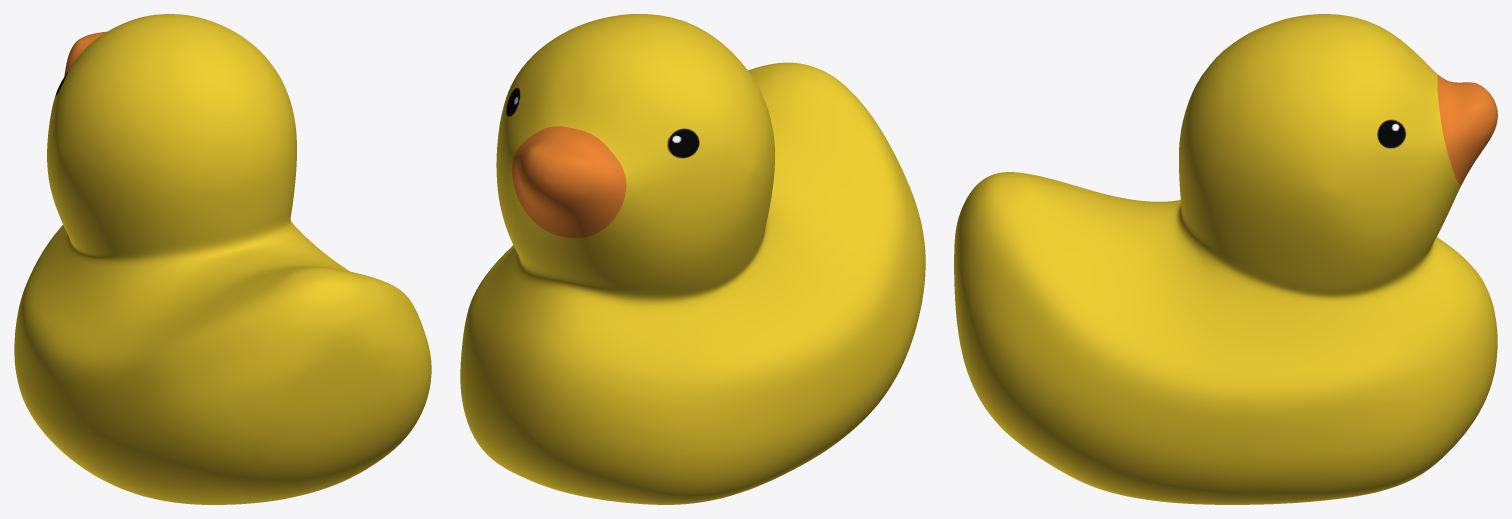
Rendered from rubberduck.glb.
3 renders of one model, left to right at view 1: azimuth 30°, elevation 25°; view 2: azimuth 150°, elevation 25°; view 3: azimuth 270°, elevation 25°, orthographic. The views are drawn at different scales.
Parts seen in each view (by area): view 1: ducky; view 2: ducky; view 3: ducky.
Boxes of the visible parts, box(x1,y1,x2,y2) form: ducky: box(14, 14, 431, 504); ducky: box(460, 14, 925, 504); ducky: box(954, 14, 1497, 504).
Size of the model in its own units: 2.67 by 3.14 by 3.67.
Materials: 1 (1 with a texture image).
